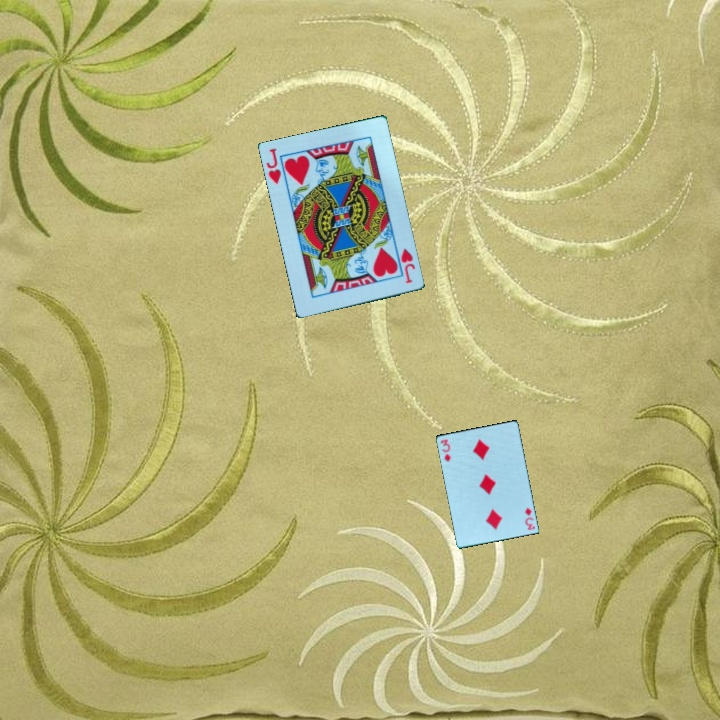3d: (437, 436, 453, 465), (521, 504, 537, 533)
Jh: (263, 145, 284, 188), (398, 245, 418, 287)
